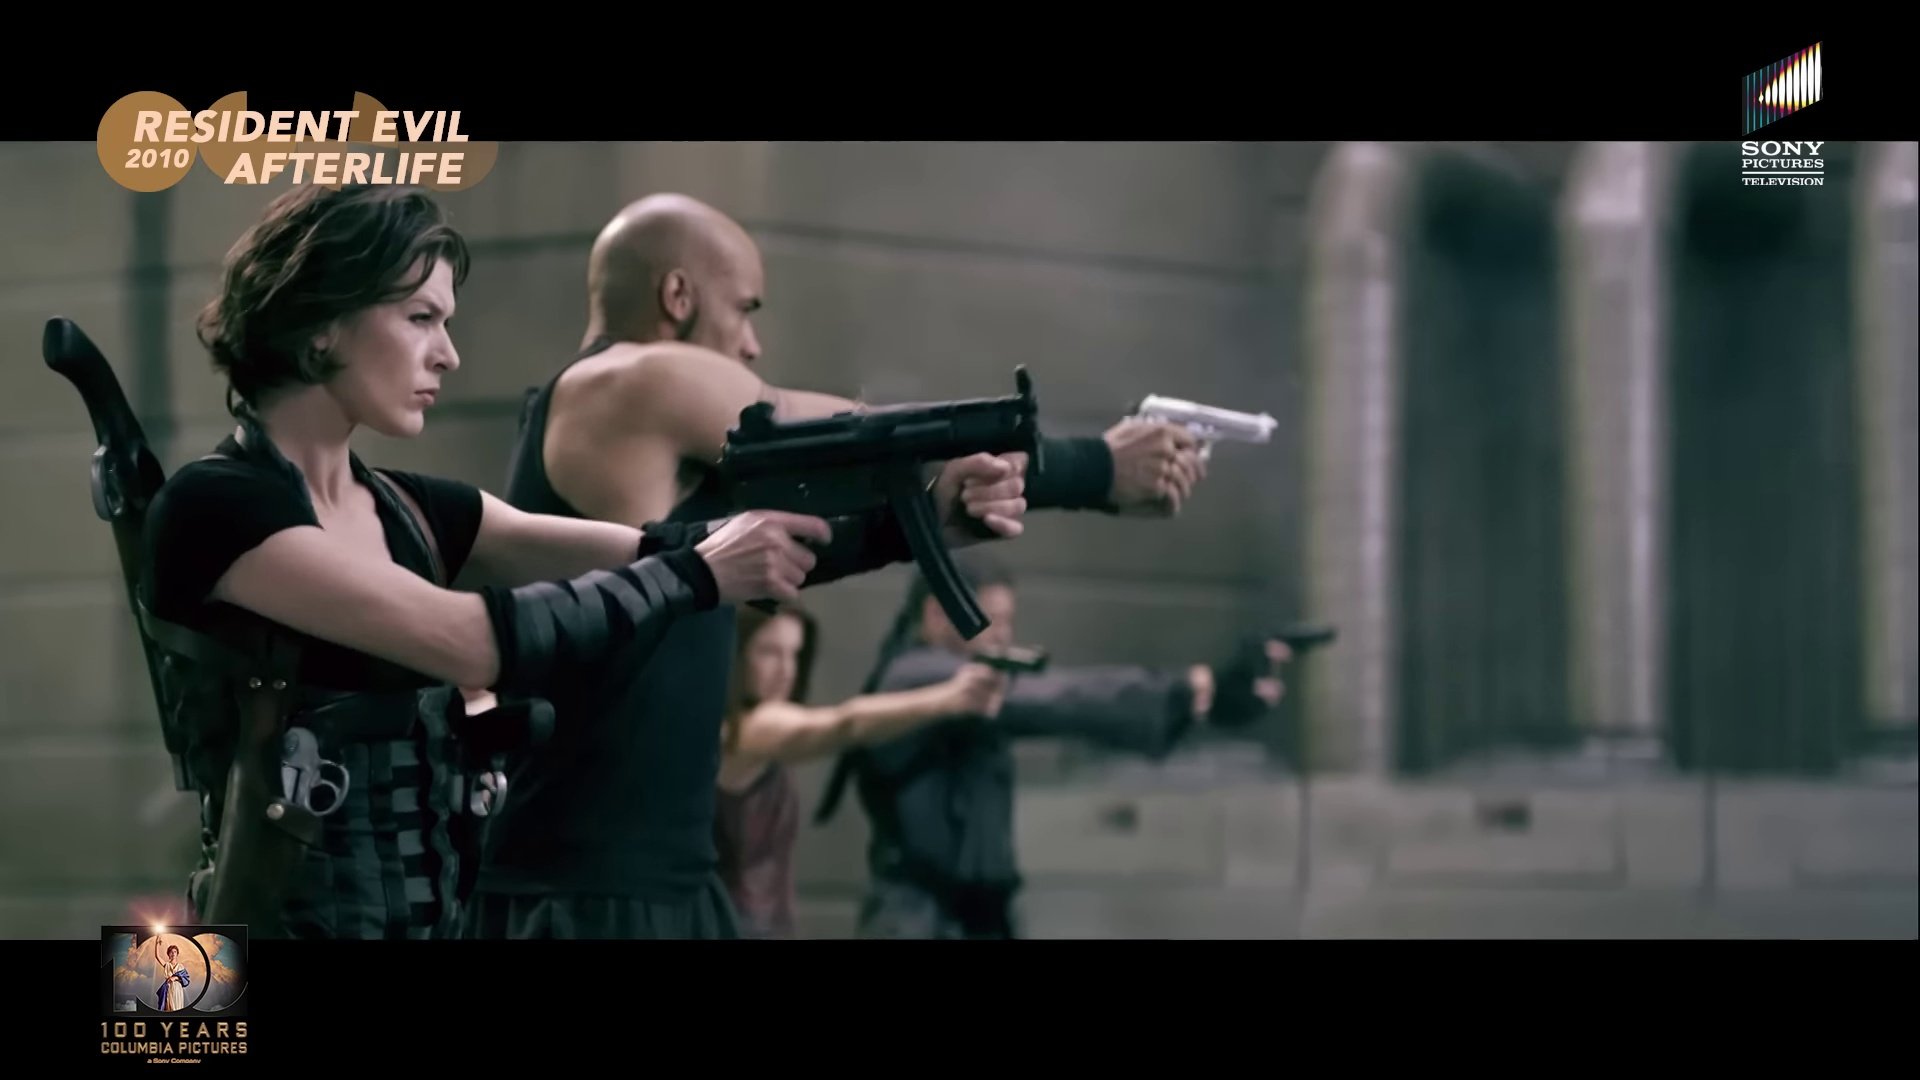gun: (649, 352, 1059, 642), (34, 302, 187, 601), (235, 686, 425, 864), (1122, 388, 1280, 481), (972, 644, 1054, 682), (1257, 622, 1341, 659)
p_w_gun: (30, 177, 1056, 936), (483, 189, 1288, 926), (839, 556, 1338, 939), (708, 585, 1047, 926)
